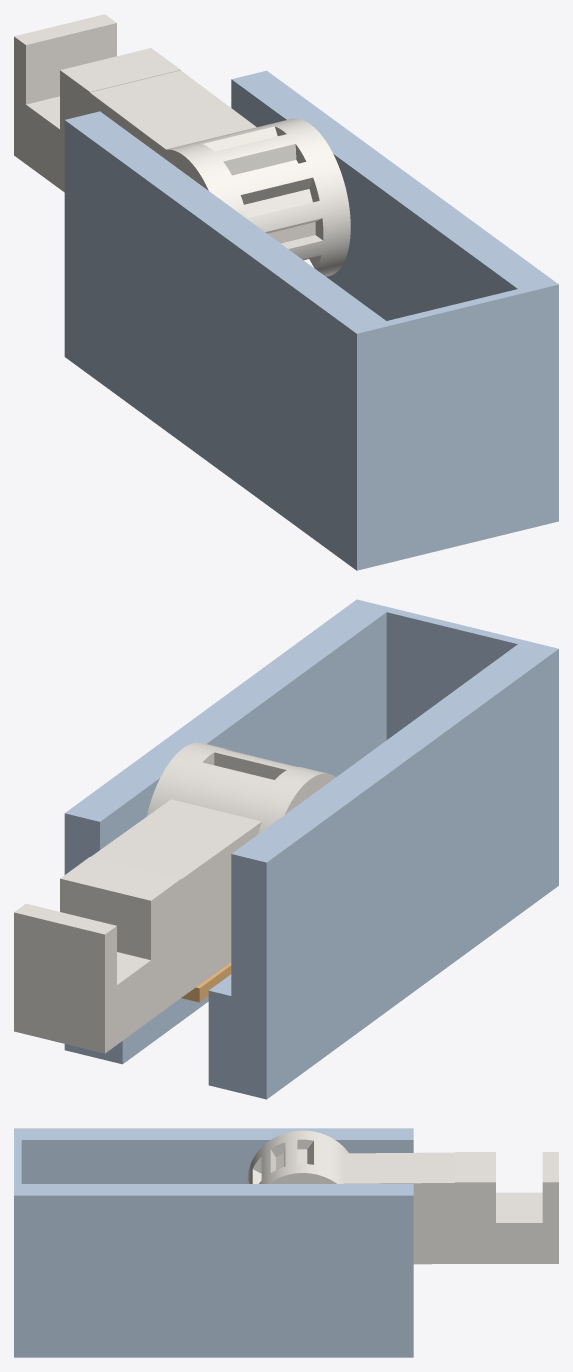
The picture shows the model from 3 angles, top to bottom: view 1: azimuth 30°, elevation 25°; view 2: azimuth 150°, elevation 25°; view 3: azimuth 270°, elevation 25°; orthographic projection. The views are drawn at different scales.
Visible parts, largest first — view 1: connector, moving; view 2: connector, moving, spring; view 3: connector, moving.
Part boxes in pixels (<box>): connector: <box>64,70,558,570</box>; moving: <box>14,14,350,276</box>; connector: <box>64,599,558,1099</box>; moving: <box>14,742,335,1053</box>; spring: <box>181,962,231,1002</box>; connector: <box>14,1128,413,1357</box>; moving: <box>247,1130,558,1264</box>.
Bounding box in the file's own units: 17.86 × 21.26 × 60.96.
